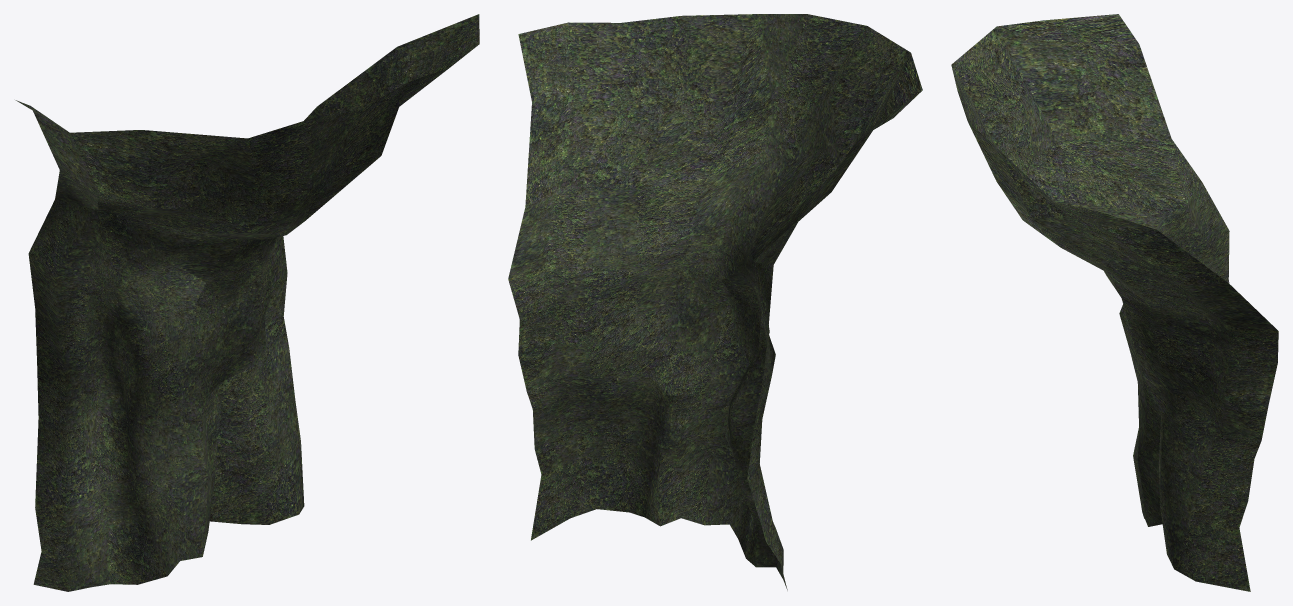
File: cliff_wall_02.fbx
3 renders of one model, left to right at view 1: azimuth 30°, elevation 25°; view 2: azimuth 150°, elevation 25°; view 3: azimuth 270°, elevation 25°, orthographic. The views are drawn at different scales.
Parts seen in each view (by area): view 1: cliff_wall_02; view 2: cliff_wall_02; view 3: cliff_wall_02.
Boxes of the visible parts, x1,y1,x2,y2 form: cliff_wall_02: (15,14,479,591); cliff_wall_02: (508,14,922,590); cliff_wall_02: (951,14,1278,591).
Size of the model in its own units: 78 by 90.69 by 58.87.
